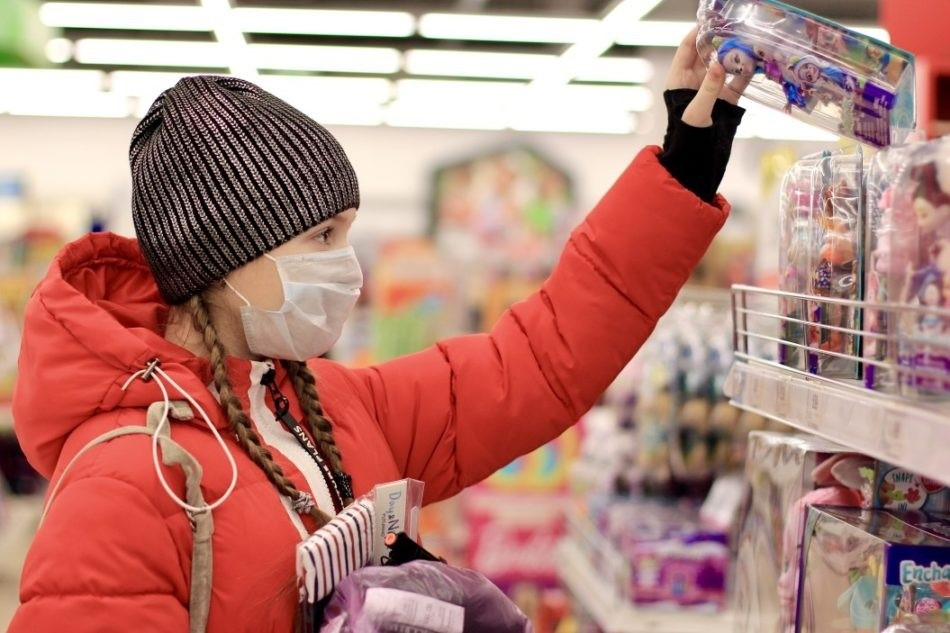face_with_mask: (135, 74, 366, 366)
